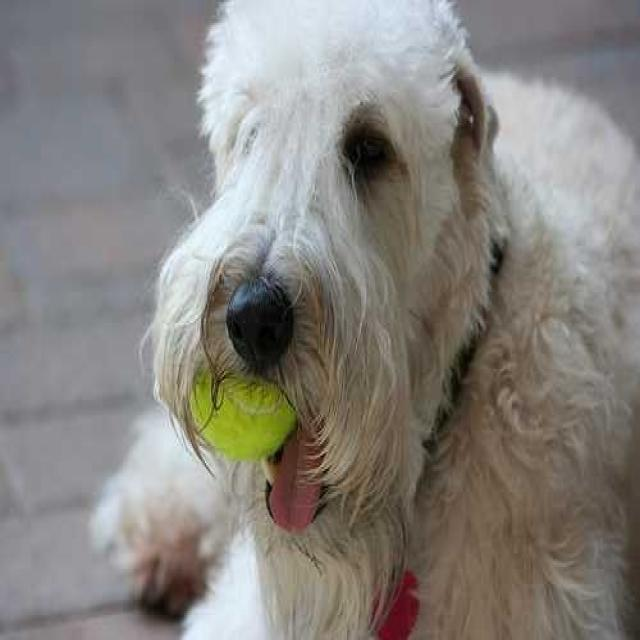Tennis_Ball: (189, 368, 294, 455)
